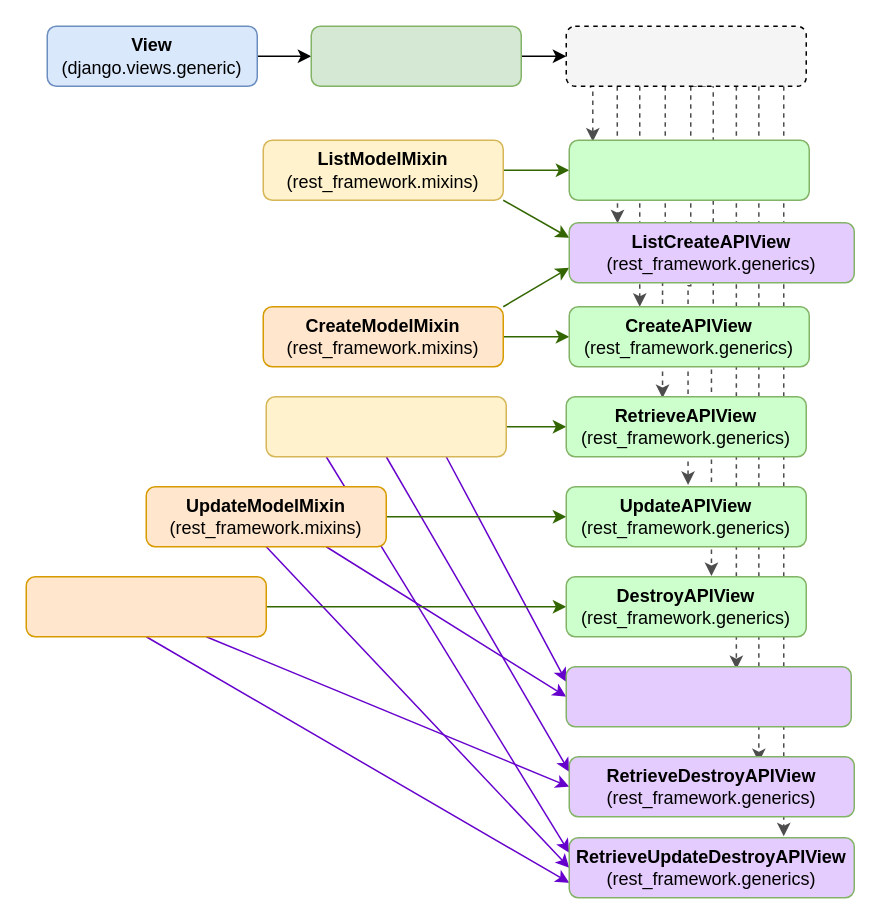
Some shapes in this 881 by 924 pixel diagram are drawn without their labels. The centre of each missing label's shape, as x and y in pixels:
APIView (rest_framework.views): the point at 415,55
DestroyModelMixin (rest_framework.mixins): the point at 145,606
GenericAPIView (rest_framework.generics): the point at 685,55
ListAPIView (rest_framework.generics): the point at 688,169
RetrieveModelMixin (rest_framework.mixins): the point at 385,426
RetrieveUpdateAPIView (rest_framework.generics): the point at 708,696
